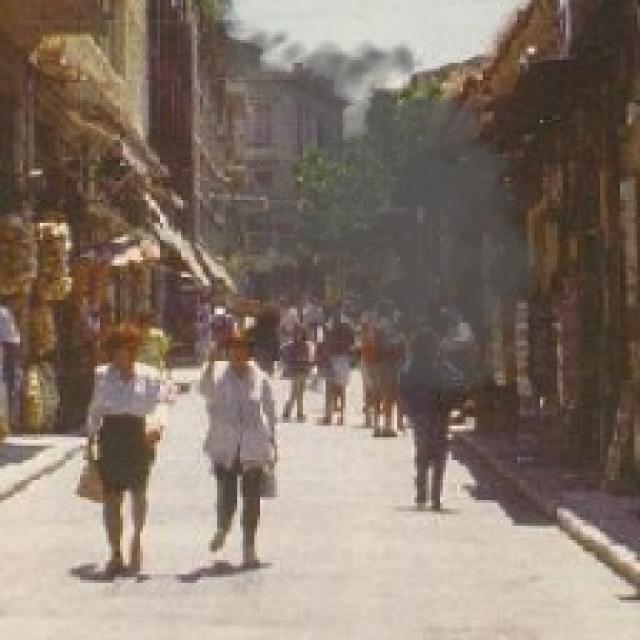smoke: (180, 17, 569, 403)
